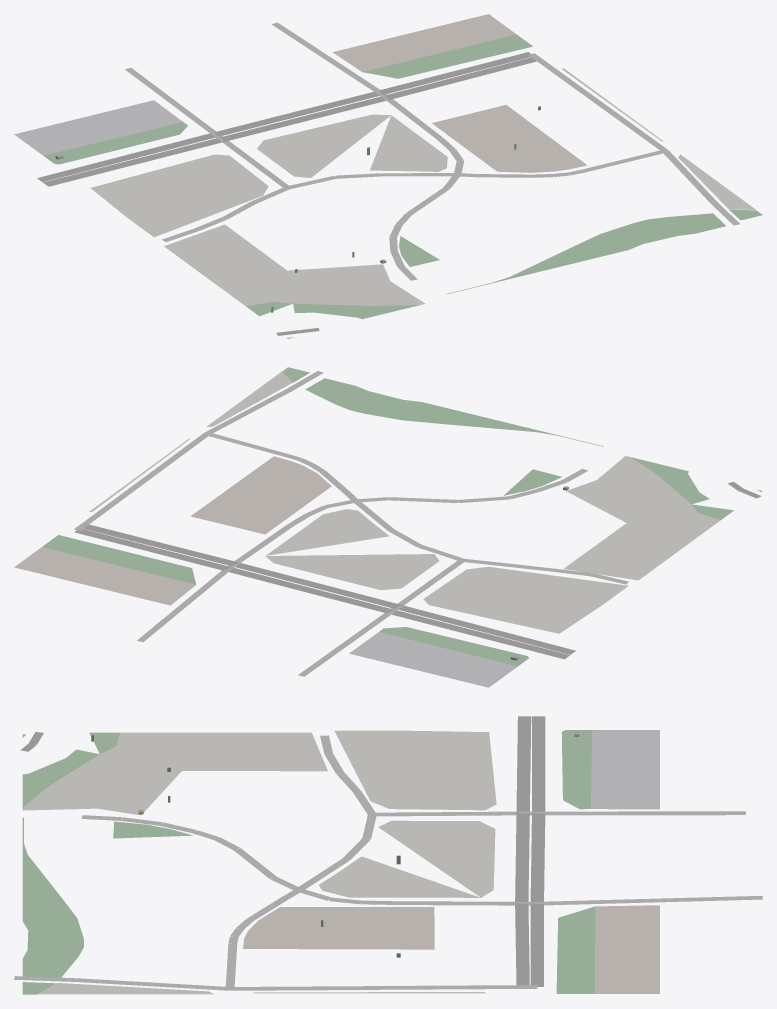
3 renders of one model, top to bottom at view 1: azimuth 30°, elevation 25°; view 2: azimuth 150°, elevation 25°; view 3: azimuth 270°, elevation 25°, orthographic. The views are drawn at different scales.
Size of the model in its own units: 528 by 14.08 by 587.
